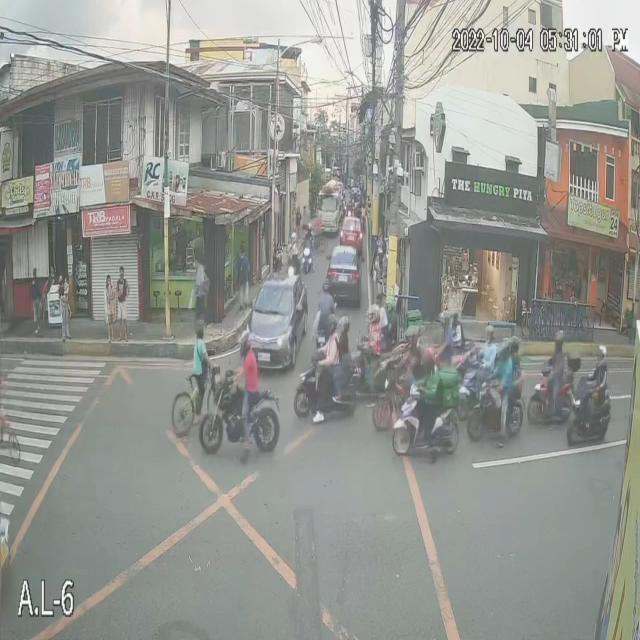Full-Faced: (556, 328, 575, 362), (321, 313, 339, 346), (440, 300, 454, 334), (240, 331, 257, 356), (417, 352, 433, 378), (483, 320, 497, 349), (600, 341, 616, 364), (406, 333, 419, 359), (504, 332, 516, 360), (383, 297, 394, 322), (289, 229, 302, 250), (365, 303, 375, 329), (303, 218, 313, 242), (341, 313, 349, 339), (323, 286, 336, 296)
Half-Faced: (192, 317, 208, 335)
